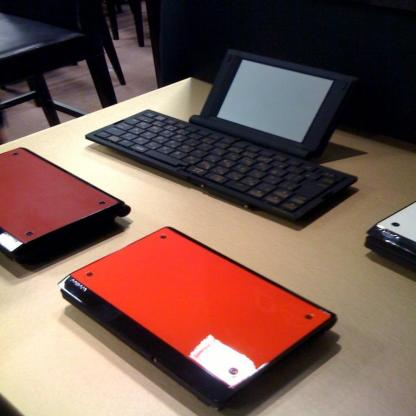board: (48, 238, 322, 402), (0, 148, 129, 260)
